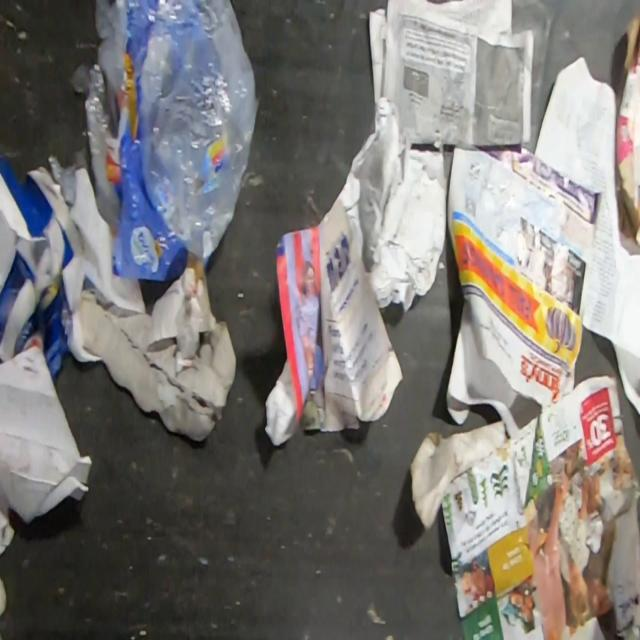cardboard: (81, 260, 238, 443), (0, 155, 85, 380), (409, 418, 507, 534), (614, 9, 640, 253)
soft_plastic: (66, 0, 260, 284), (47, 152, 77, 208)
